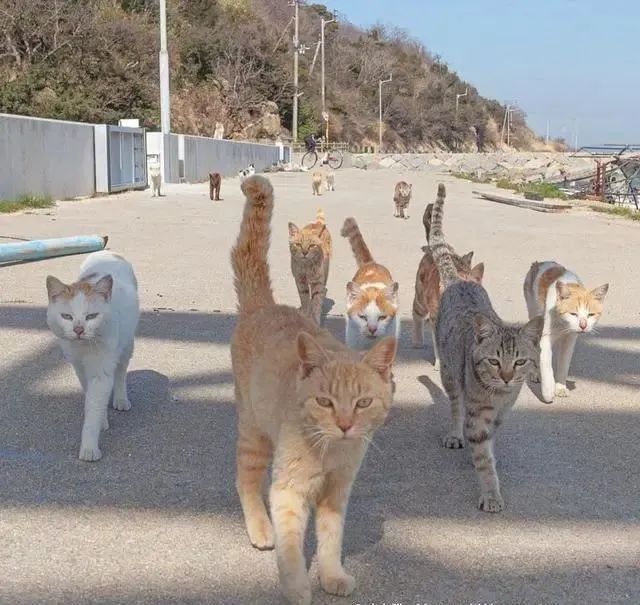cat: (229, 175, 398, 604), (428, 183, 544, 514), (46, 251, 142, 463), (524, 261, 609, 403), (414, 203, 484, 372), (339, 217, 399, 357), (288, 207, 334, 326), (392, 181, 413, 219), (209, 171, 222, 200), (149, 167, 162, 195), (237, 163, 255, 181), (312, 172, 324, 195), (324, 171, 336, 191)
